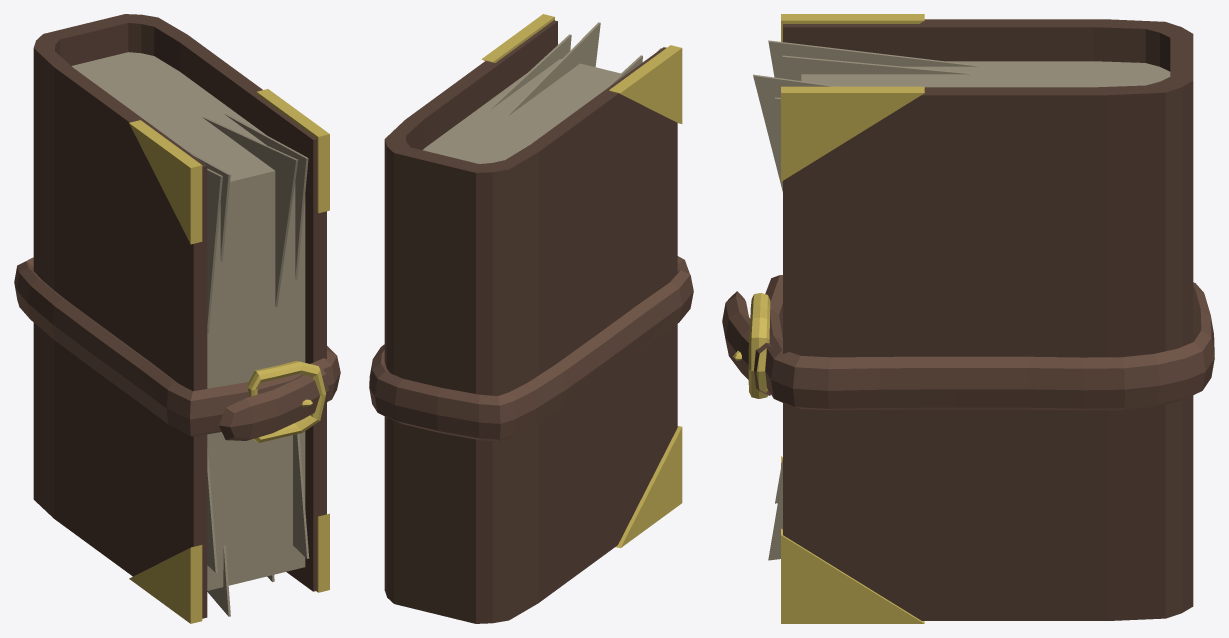
File: book3_closed.glb
3 views of the same model, side by side, from view 1: azimuth 30°, elevation 25°; view 2: azimuth 150°, elevation 25°; view 3: azimuth 270°, elevation 25° (orthographic). The views are drawn at different scales.
Visible parts, largest first — view 1: Book3_Closed; view 2: Book3_Closed; view 3: Book3_Closed.
Part boxes in pixels (x1,y1,x2,y2): Book3_Closed: (14,14,340,623); Book3_Closed: (369,14,693,623); Book3_Closed: (722,14,1214,623).
Size of the model in its own units: 0.3129 by 0.8068 by 0.6705.
